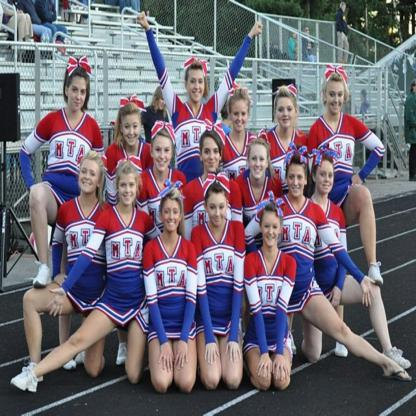face: (79, 158, 99, 196), (122, 112, 141, 148), (155, 136, 173, 173), (208, 193, 227, 228), (203, 138, 221, 174), (263, 212, 280, 249), (69, 78, 87, 112), (250, 147, 268, 181), (163, 200, 181, 234), (120, 172, 137, 207), (327, 82, 345, 115), (277, 97, 295, 130), (289, 162, 305, 199), (189, 70, 206, 104), (232, 102, 250, 134), (318, 160, 334, 196), (159, 94, 167, 112), (305, 27, 311, 35), (342, 4, 347, 13), (160, 7, 165, 14), (413, 83, 416, 94), (293, 32, 297, 40), (361, 93, 365, 101), (179, 10, 184, 16), (275, 43, 279, 50), (148, 11, 151, 16)
